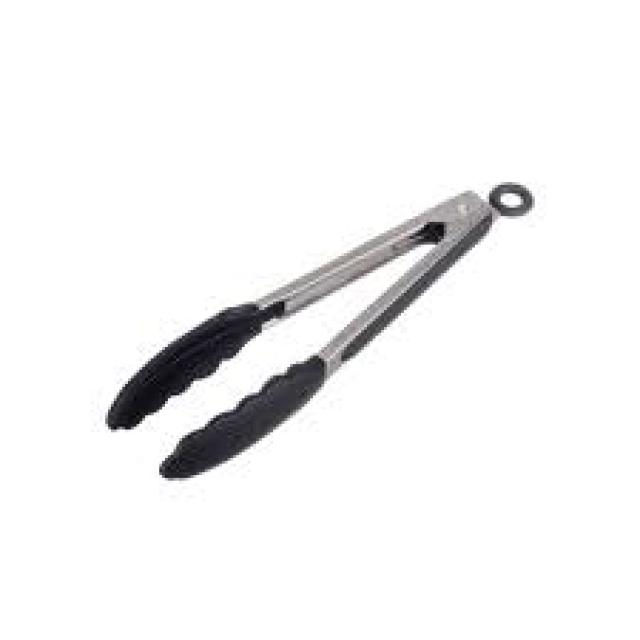scissors: (105, 182, 538, 484)
